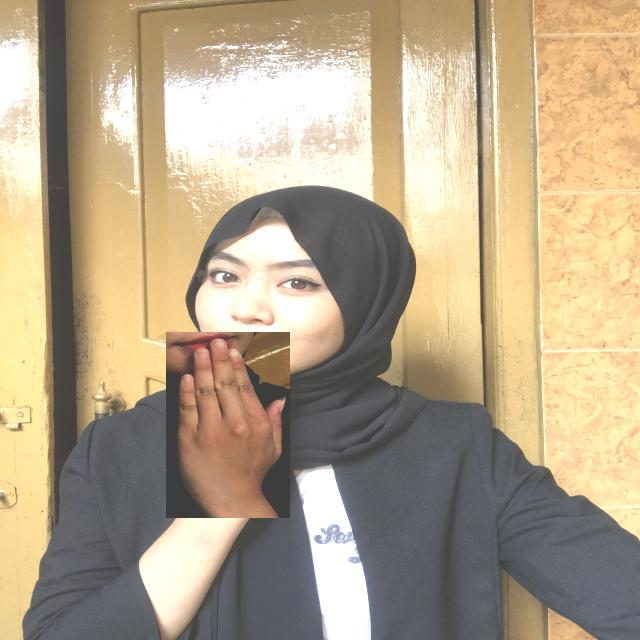ganteng: (166, 332, 290, 518)
